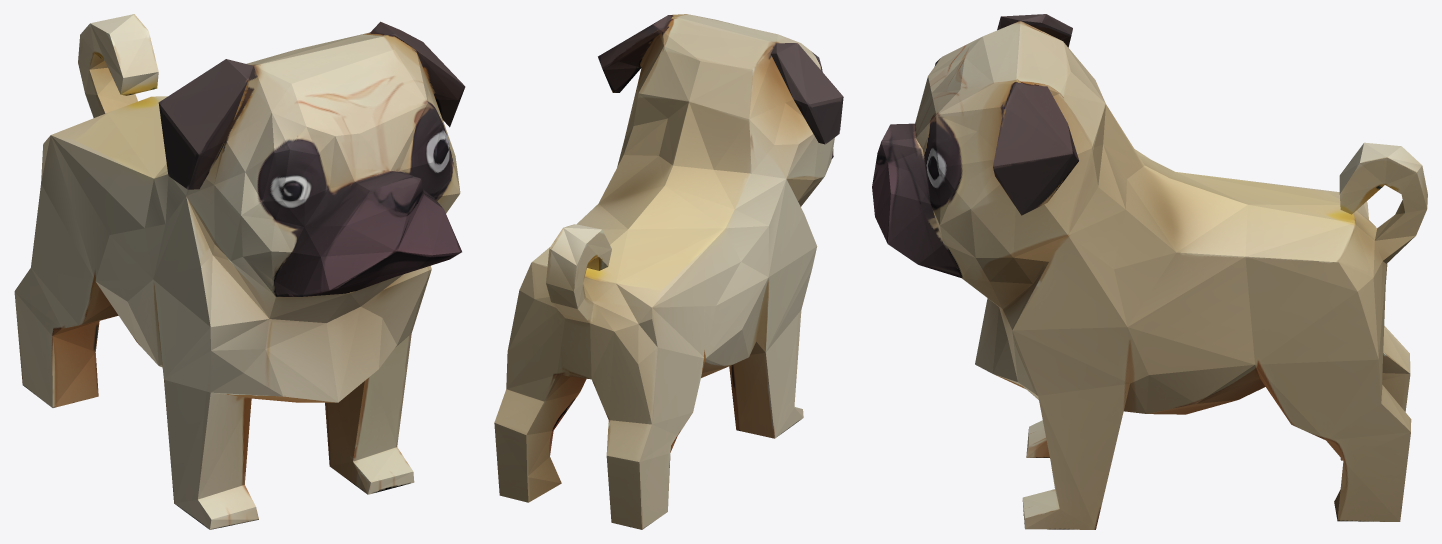
3 views of the same model, side by side, from view 1: azimuth 30°, elevation 25°; view 2: azimuth 150°, elevation 25°; view 3: azimuth 270°, elevation 25° (orthographic). The views are drawn at different scales.
Visible parts, largest first — view 1: Figure; view 2: Figure; view 3: Figure.
Part boxes in pixels (x1,y1,x2,y2): Figure: [14, 14, 465, 529]; Figure: [494, 14, 843, 529]; Figure: [872, 14, 1427, 529].
Bounding box in the file's own units: 0.2543 × 0.4119 × 0.4785.
Materials: 1 (1 with a texture image).
